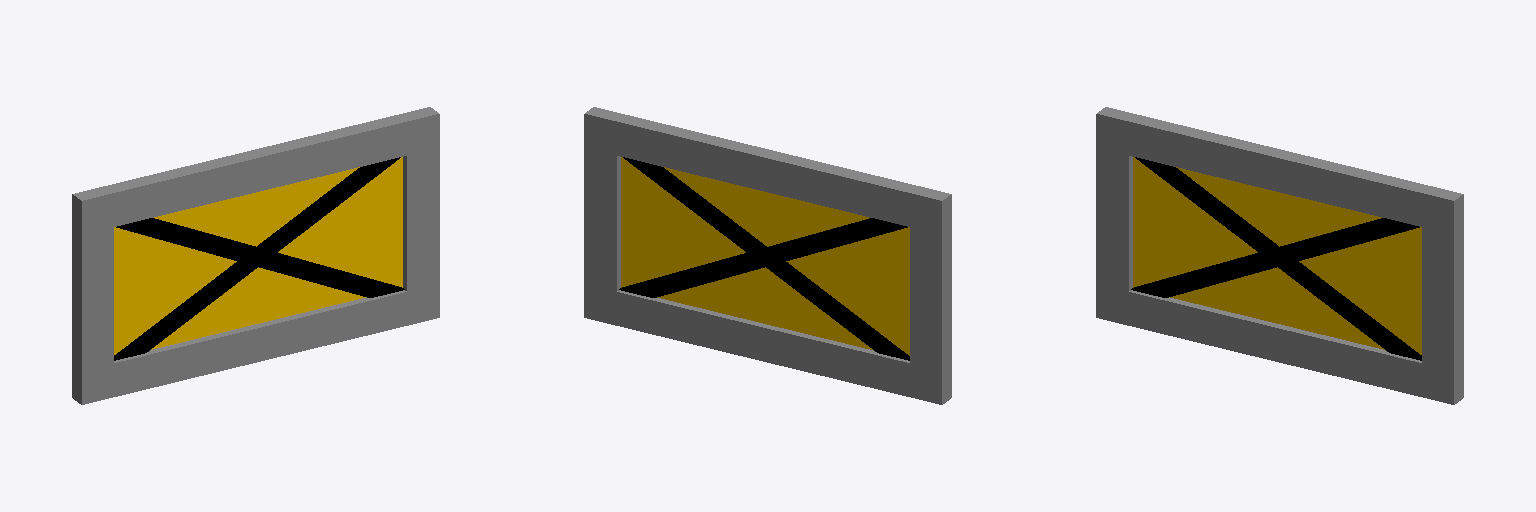
Rendered from obstacle_top.obj.
3 views of the same model, side by side, from view 1: azimuth 30°, elevation 25°; view 2: azimuth 150°, elevation 25°; view 3: azimuth 330°, elevation 25° (orthographic).
Parts seen in each view (by area): view 1: Rectangle02, Box01, Line02; view 2: Rectangle02, Box01, Line02; view 3: Rectangle02, Box01, Line02.
Part boxes in pixels (left/top/right/bottom): Rectangle02: left=72, top=107, right=439, bottom=404; Box01: left=114, top=157, right=402, bottom=354; Line02: left=114, top=157, right=404, bottom=360; Rectangle02: left=584, top=107, right=951, bottom=404; Box01: left=621, top=157, right=909, bottom=355; Line02: left=619, top=157, right=909, bottom=360; Rectangle02: left=1096, top=107, right=1463, bottom=404; Box01: left=1133, top=157, right=1421, bottom=354; Line02: left=1131, top=157, right=1421, bottom=360.
Bounding box in the file's own units: 0.8661 × 0.4724 × 0.0394.